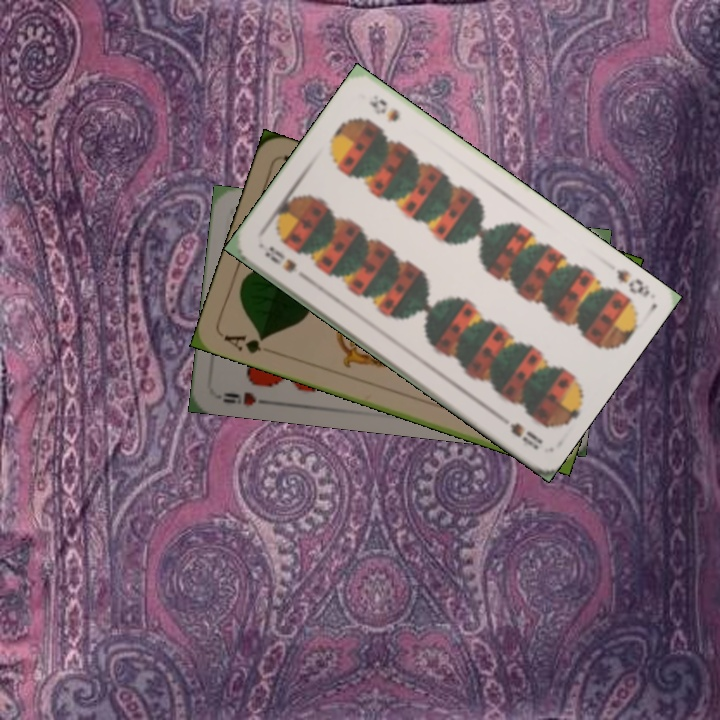GA: (220, 330, 268, 356)
H9: (219, 388, 274, 410)
S8: (612, 265, 653, 301), (261, 242, 300, 276)
